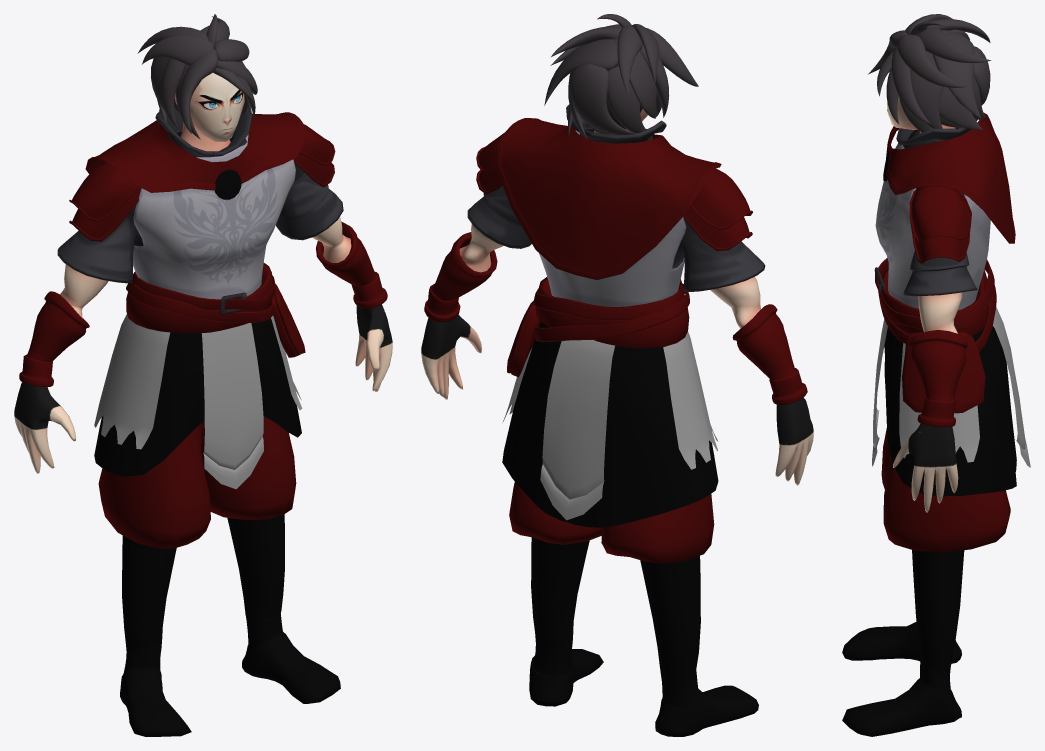
Rendered from dante.fbx.
3 views of the same model, side by side, from view 1: azimuth 30°, elevation 25°; view 2: azimuth 150°, elevation 25°; view 3: azimuth 270°, elevation 25° (orthographic). The views are drawn at different scales.
Parts seen in each view (by area): view 1: Character.001; view 2: Character.001; view 3: Character.001.
Part boxes in pixels (x1=…): Character.001: x1=14, y1=14, x2=392, y2=736; Character.001: x1=421, y1=14, x2=813, y2=736; Character.001: x1=842, y1=14, x2=1030, y2=736.
Size of the model in its own units: 446 by 786 by 200.
Materials: 6 (3 with a texture image).
